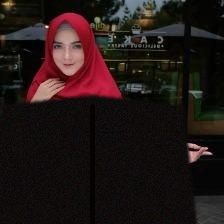Cadar_Niqab: (0, 9, 196, 224)
